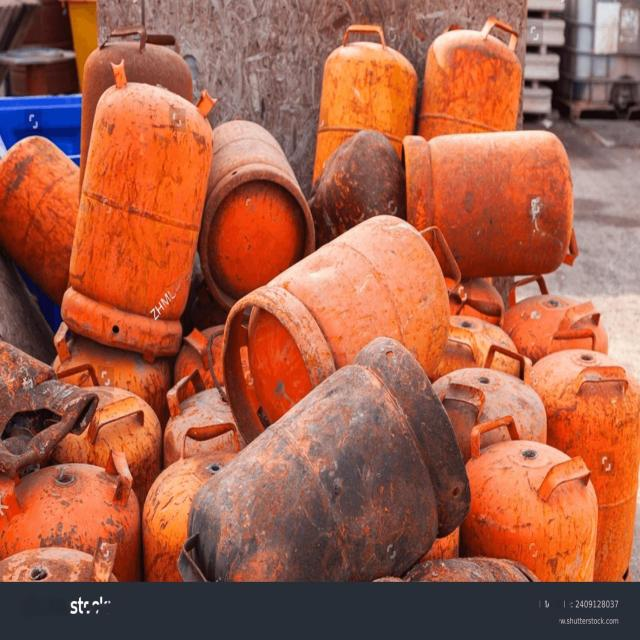Cylinder: (178, 337, 468, 584), (221, 216, 451, 447), (61, 84, 210, 360), (404, 130, 580, 282), (200, 118, 315, 310)
